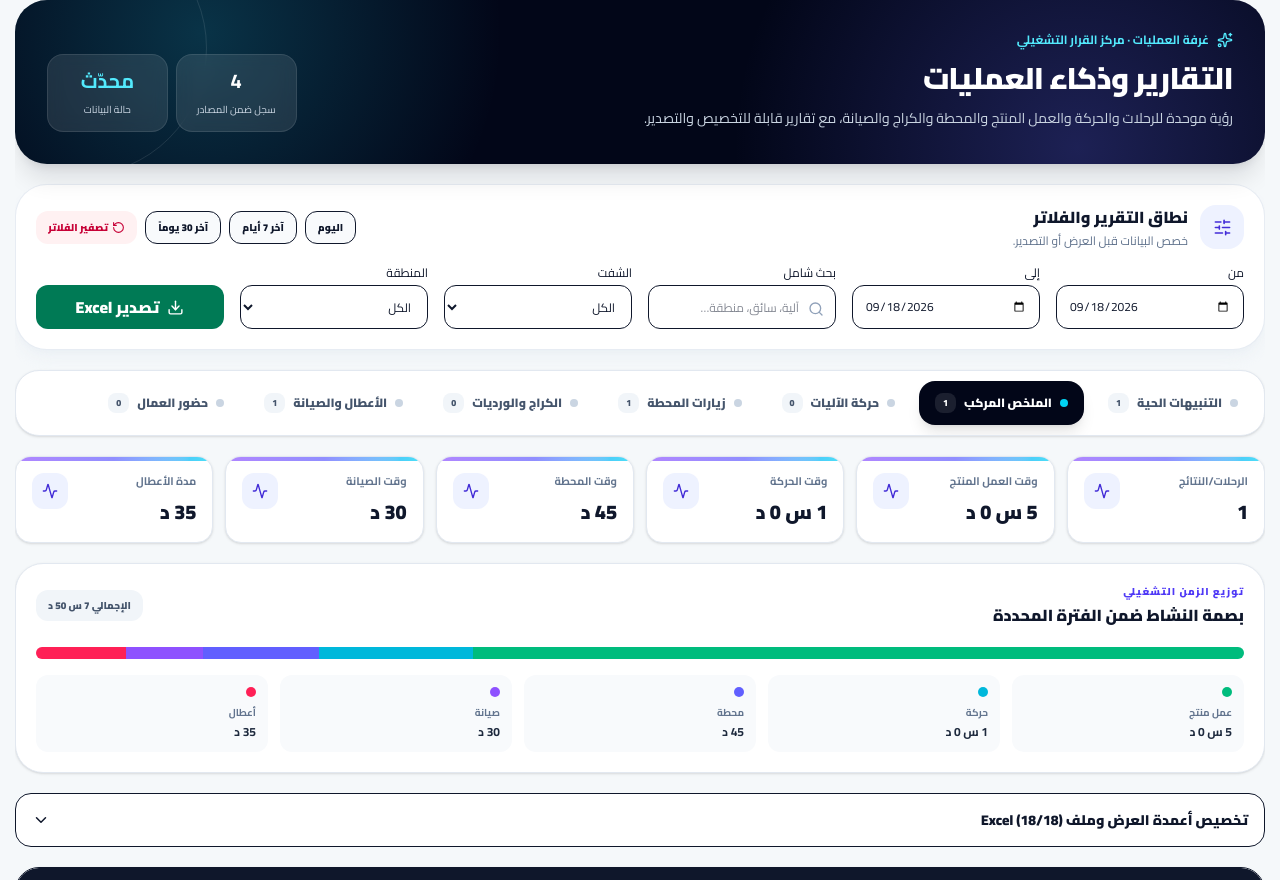
Test: تقارير غرفة العمليات المركبة › يوفر تقريراً مستقلاً لزيارات المحطة
Click the button with test id "ops-tab-station".
click(680, 403)  # box [602,381,758,425]
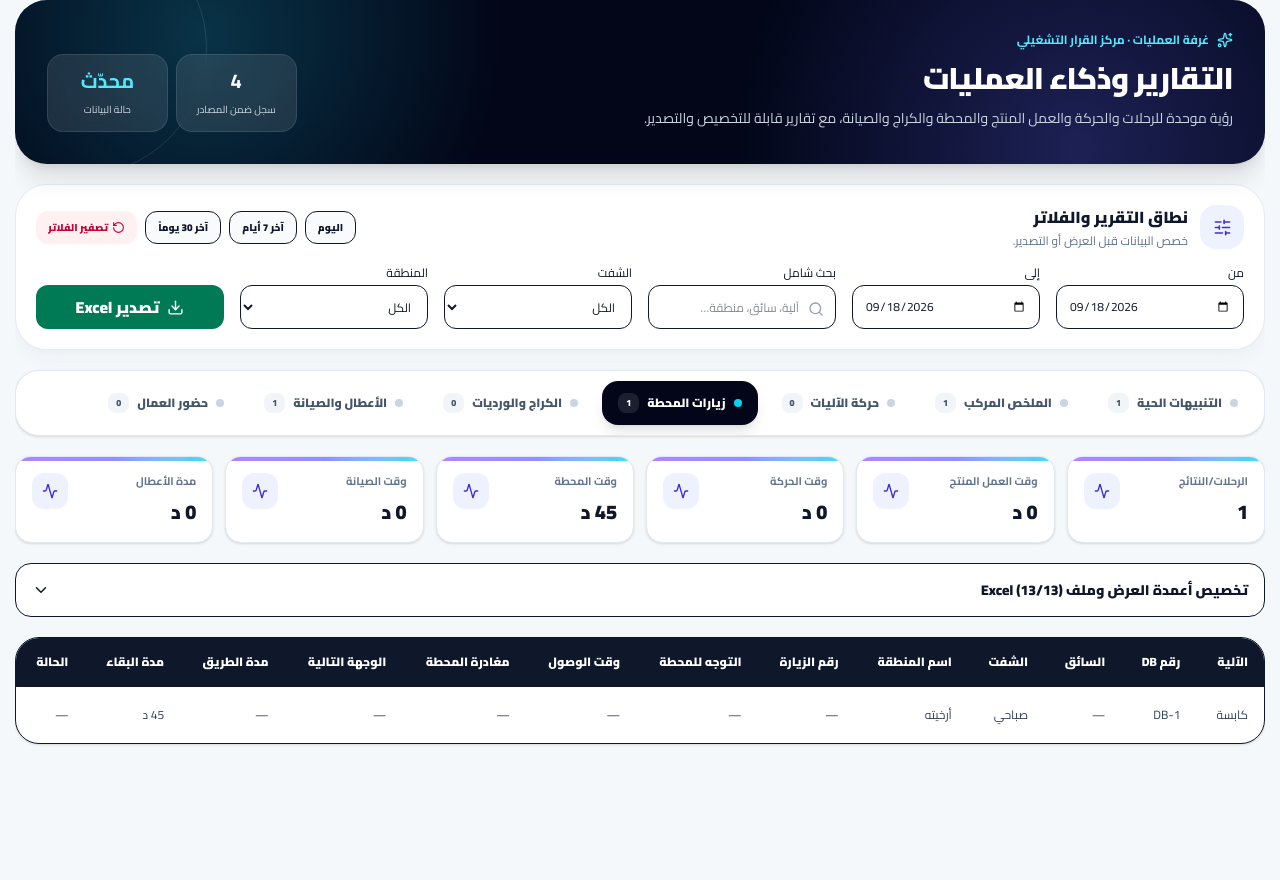
Check: the cell "45 د" is shown, box [84,686,180,742]
Check: the column heading "مدة البقاء" is shown, box [84,638,180,686]
